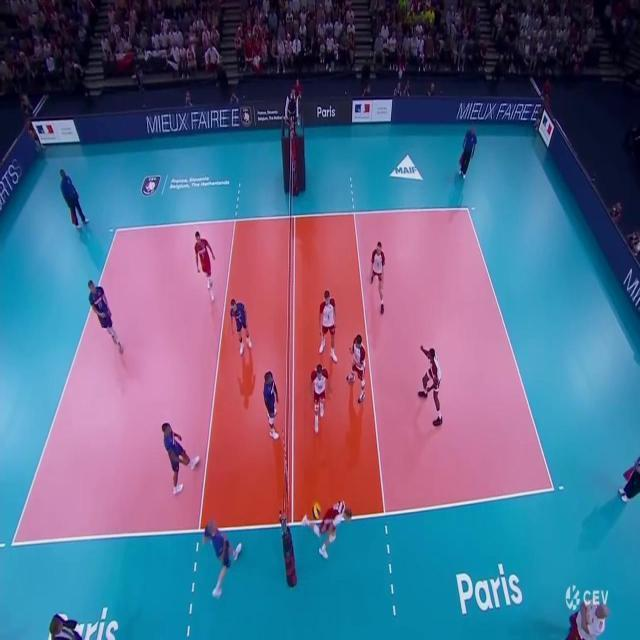volleyball: (311, 502, 321, 520)
